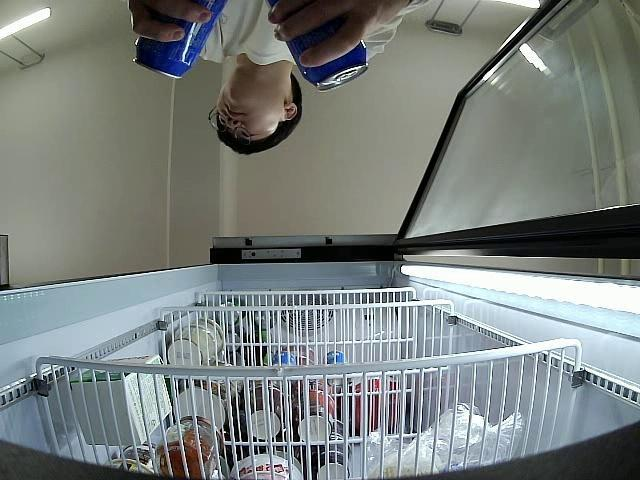13_pocariSweat: (263, 0, 370, 94), (130, 0, 222, 82)
